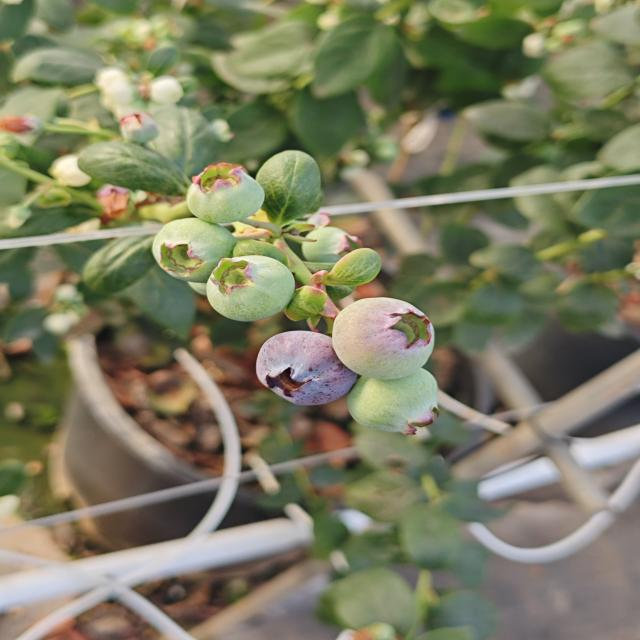ripe: (243, 327, 372, 407)
